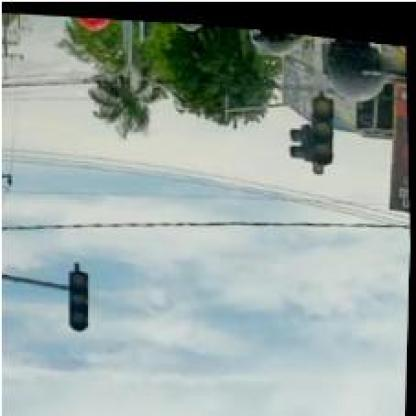yellow: (307, 85, 338, 157), (66, 265, 92, 329)
